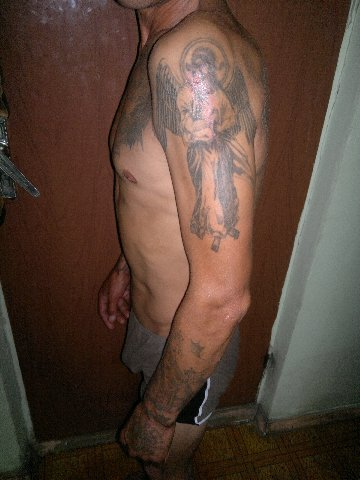tatu1_angel: (156, 41, 263, 250)
